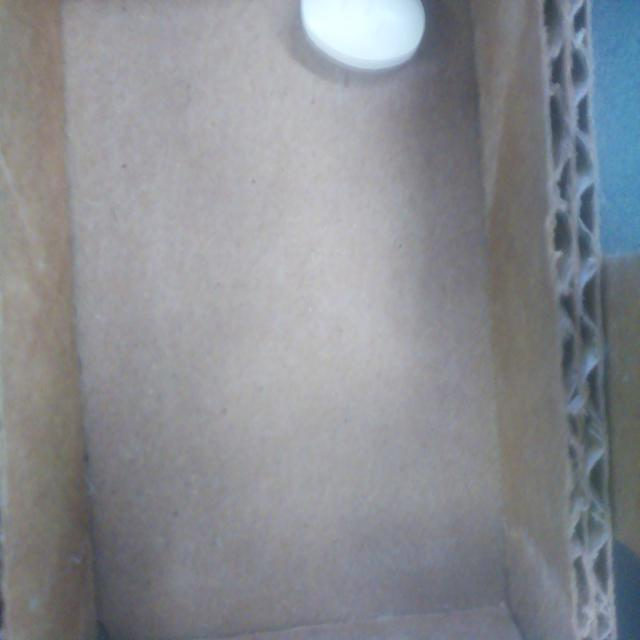pill: (302, 1, 427, 72)
